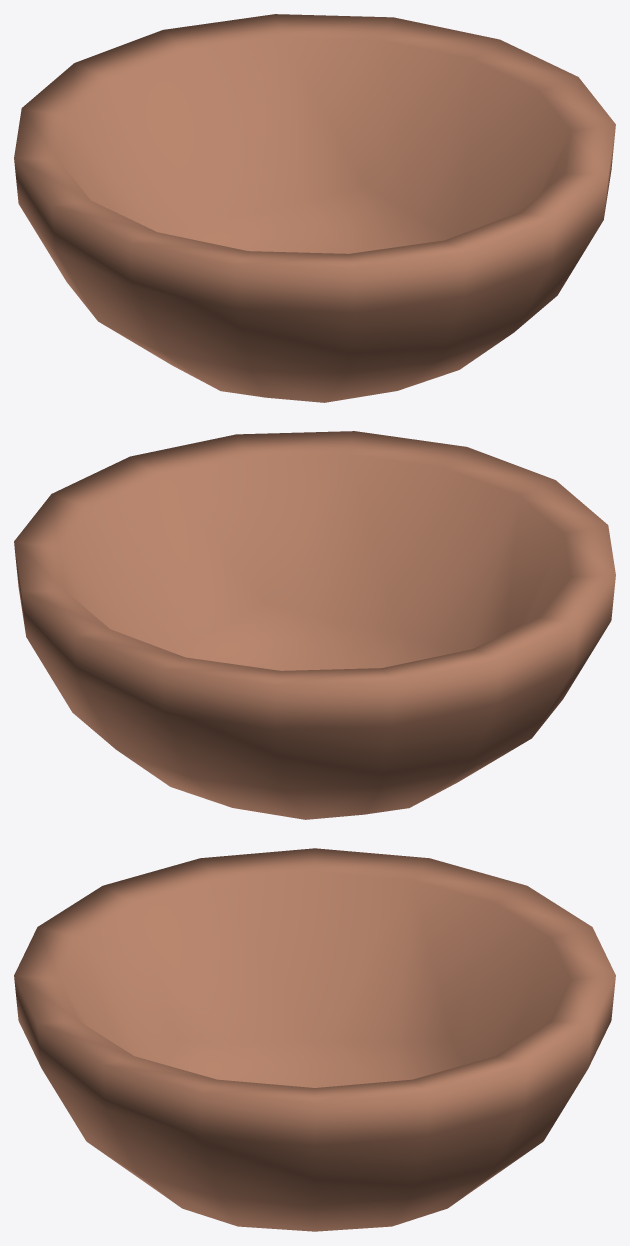
File: BowlSmall.fbx
3 renders of one model, top to bottom at view 1: azimuth 30°, elevation 25°; view 2: azimuth 150°, elevation 25°; view 3: azimuth 270°, elevation 25°, orthographic.
Visible parts, largest first — view 1: Bowl_Small; view 2: Bowl_Small; view 3: Bowl_Small.
Boxes of the visible parts, bbox=[...] form: Bowl_Small: bbox=[14, 14, 615, 402]; Bowl_Small: bbox=[14, 431, 615, 819]; Bowl_Small: bbox=[14, 848, 615, 1231].
Size of the model in its own units: 21.08 by 7.48 by 21.08.
